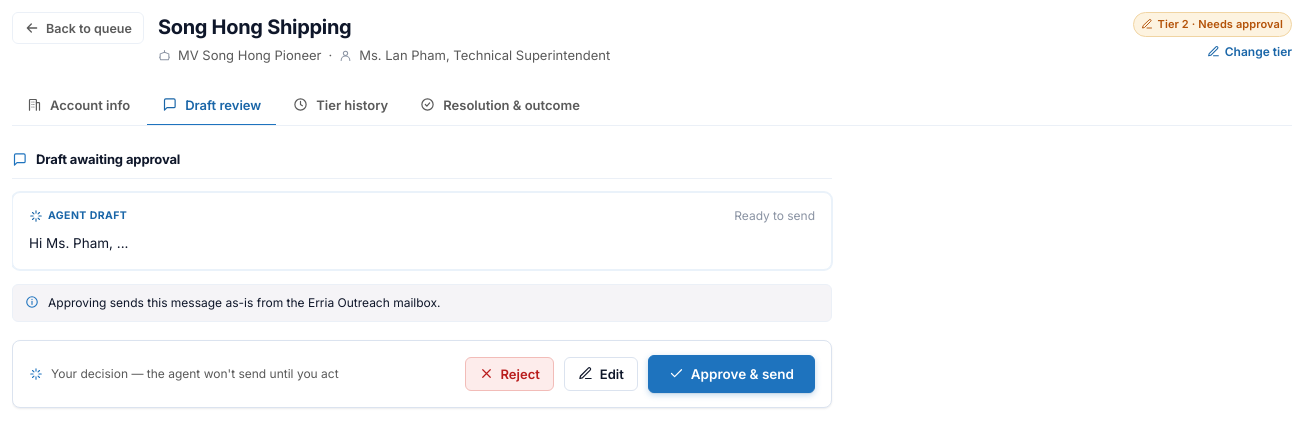
Test: AccountDetailPage › shows the sending state after approving
Expected: the text "Hi Ms. Pham, ..." is shown, [29,235,128,251]
Click the button "Approve & send".
click(731, 374)  # box [648,355,815,393]
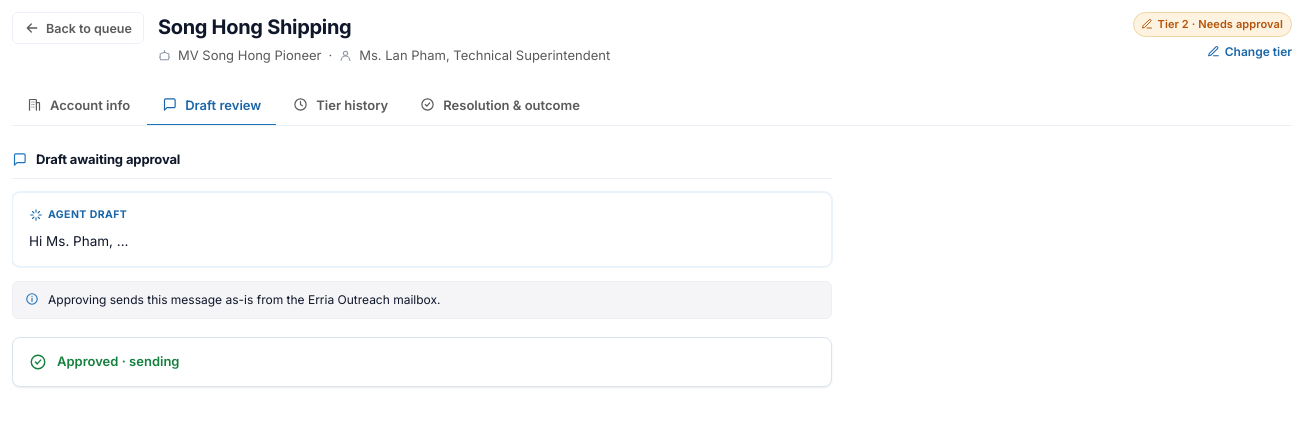
Expected: the text "Approved · sending" is shown, [29,352,180,372]
Expected: the button "Reject" is gone
Expected: the button "Edit" is gone
